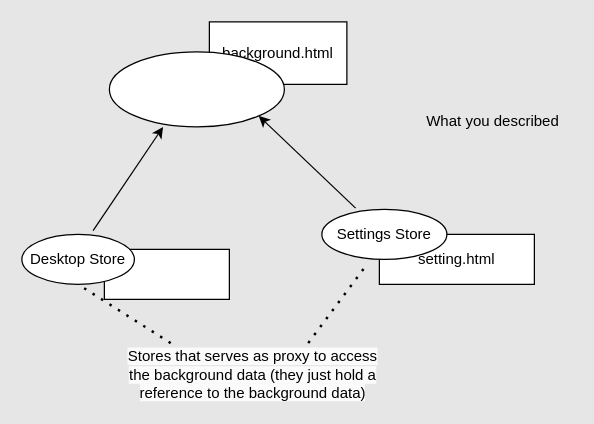
This 594x424 diagram has some shape labels left out. The centre of each missing label's shape, as x and y in pixels:
"State" (Object) with all my datas: [196,89]
desktop.html: [166,273]
